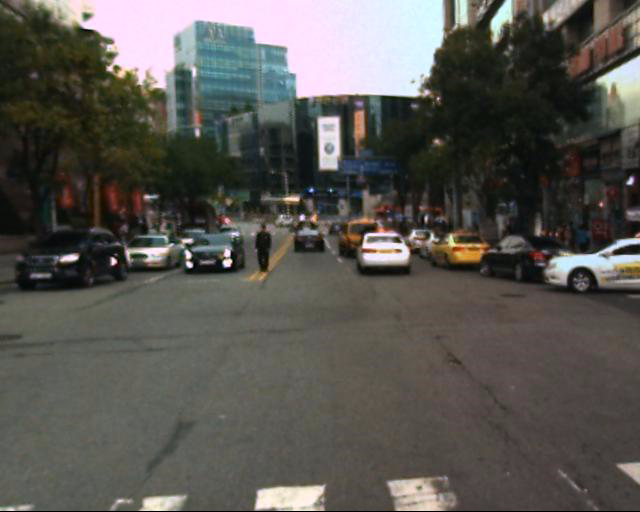person: (563, 214, 588, 255), (255, 226, 275, 277), (575, 212, 598, 255), (552, 217, 573, 254)
